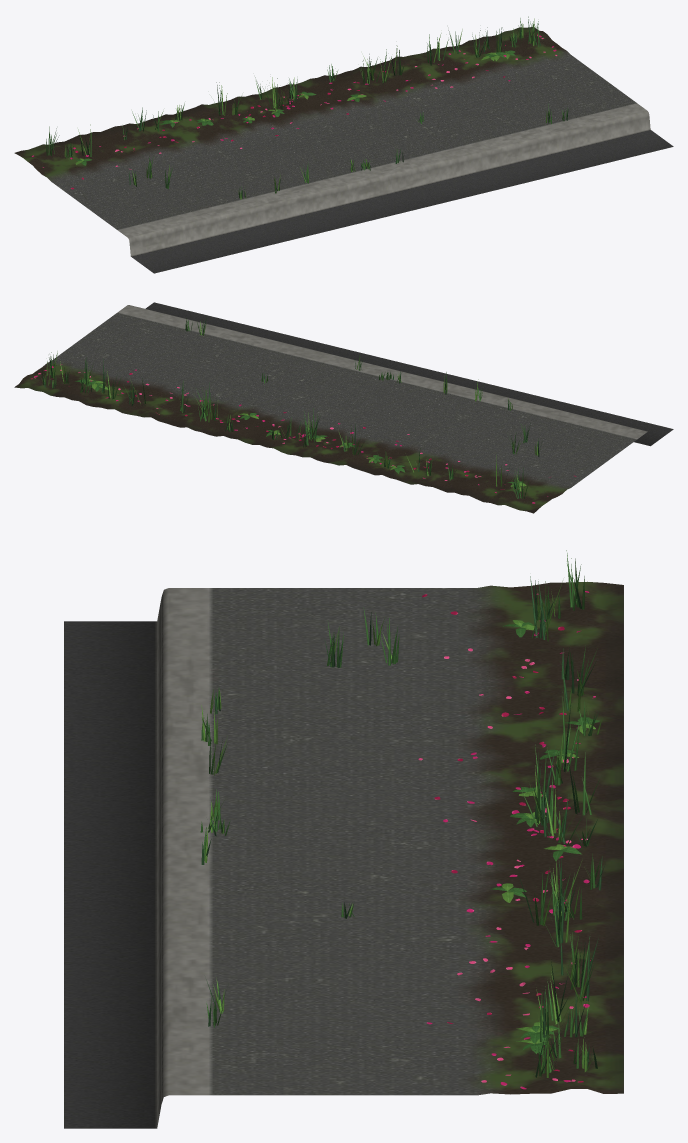
File: BGV_ground_strip_optional.glb
The picture shows the model from 3 angles, top to bottom: view 1: azimuth 30°, elevation 25°; view 2: azimuth 150°, elevation 25°; view 3: azimuth 270°, elevation 25°; orthographic projection. The views are drawn at different scales.
Visible parts, largest first — view 1: BGV_ground, BGV_weeds, BGV_debris_optional; view 2: BGV_ground, BGV_weeds, BGV_debris_optional; view 3: BGV_ground, BGV_weeds, BGV_debris_optional.
Part boxes in pixels (left/top/right/bottom): BGV_ground: left=14, top=27, right=673, bottom=273; BGV_weeds: left=46, top=16, right=568, bottom=199; BGV_debris_optional: left=32, top=33, right=557, bottom=189; BGV_ground: left=14, top=302, right=673, bottom=513; BGV_weeds: left=41, top=318, right=542, bottom=498; BGV_debris_optional: left=31, top=364, right=576, bottom=503; BGV_ground: left=64, top=581, right=623, bottom=1128; BGV_weeds: left=200, top=550, right=605, bottom=1077; BGV_debris_optional: left=418, top=591, right=595, bottom=1089.
Bounding box in the file's own units: 3.6 × 0.3733 × 1.68.
3 materials, 3 textured.
